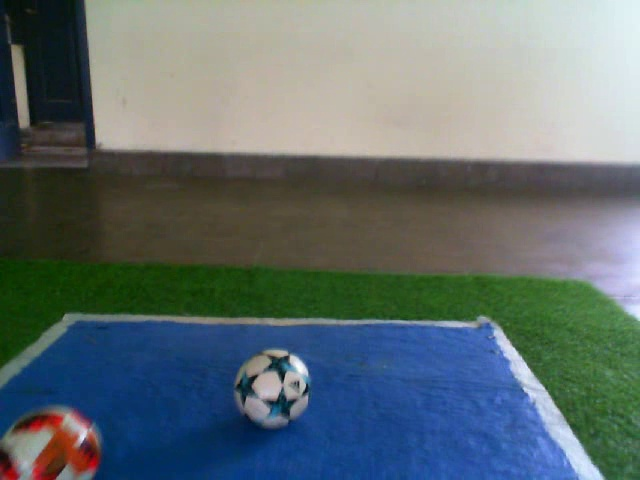ball: (1, 402, 107, 480), (228, 345, 316, 431)
